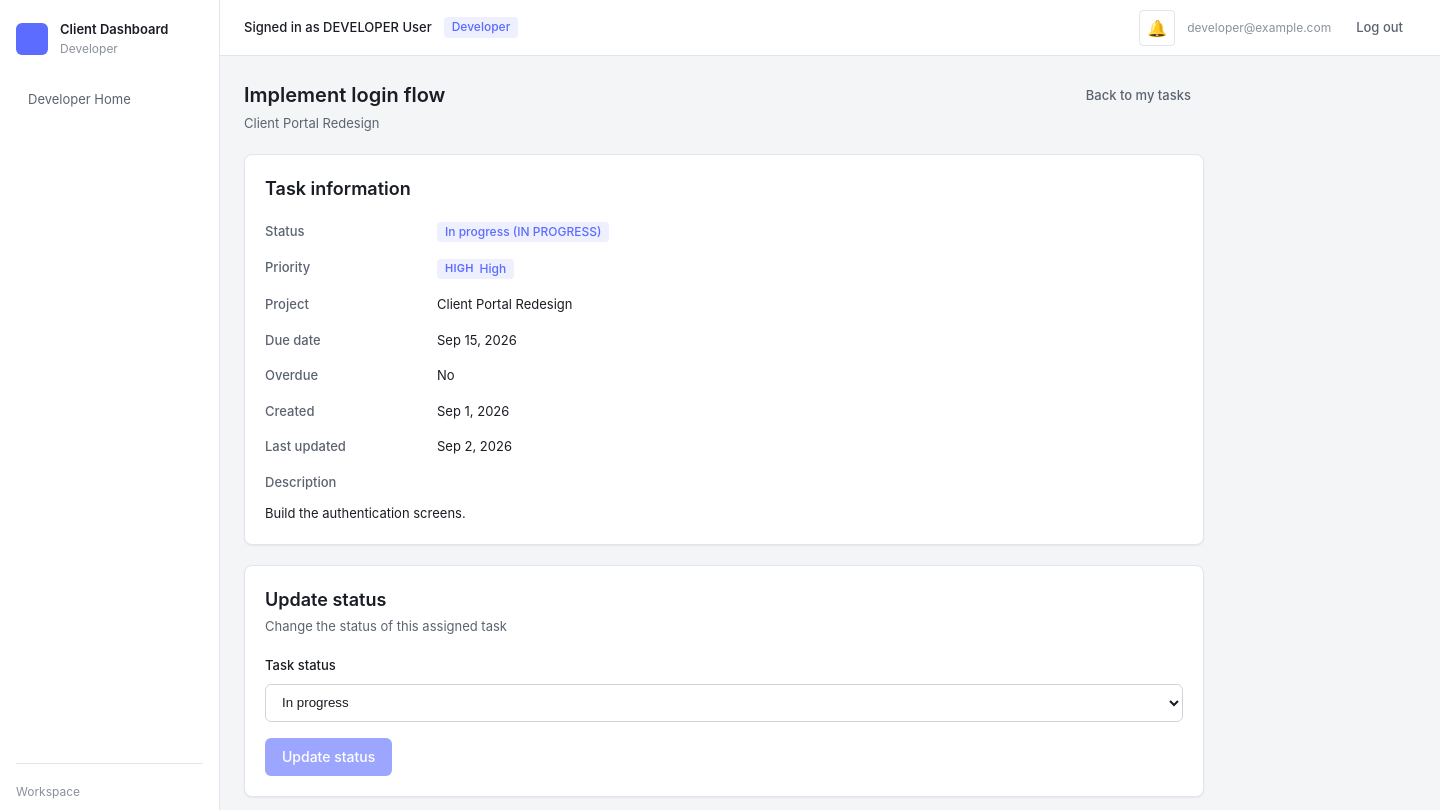
Developer task status updates › disables update while the mutation is pending
Select "Done" in the dropdown labelled "Task status" at (724, 703), box [265, 684, 1183, 722]
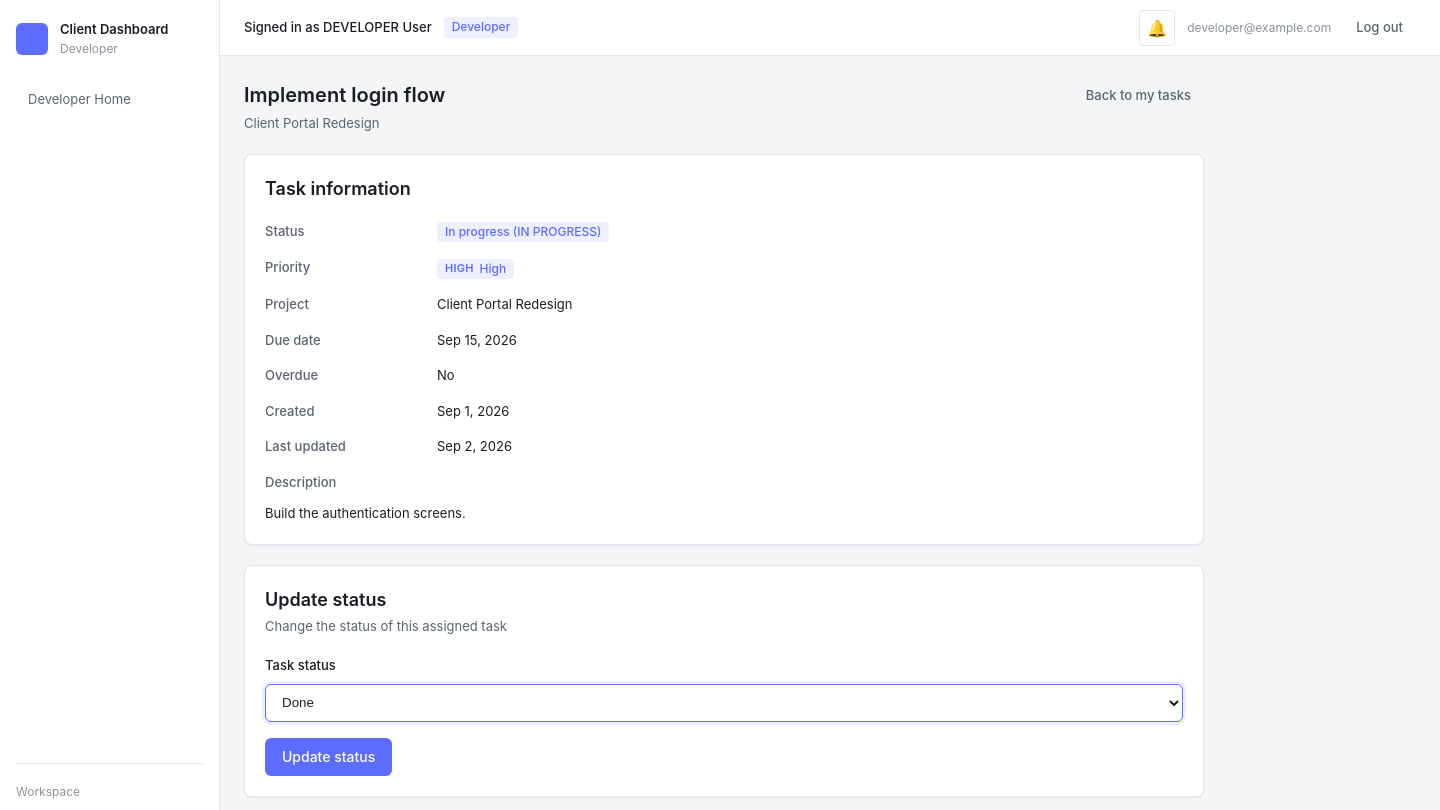
Click the button "Update status" at (329, 757), box [265, 738, 392, 776]
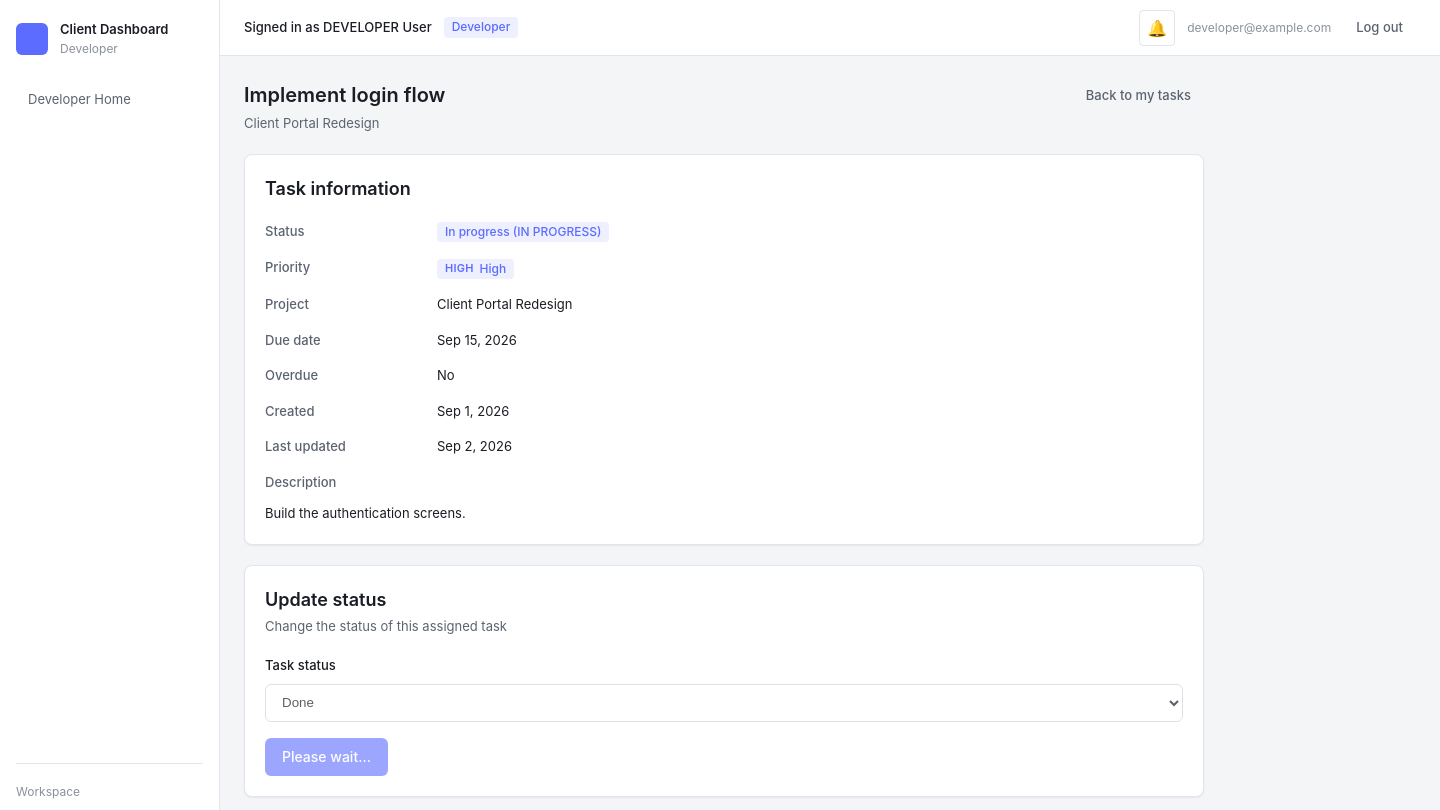
Expected: the button "Please wait…" is disabled, [265, 738, 388, 776]
Expected: the dropdown labelled "Task status" is disabled, [265, 684, 1183, 722]
